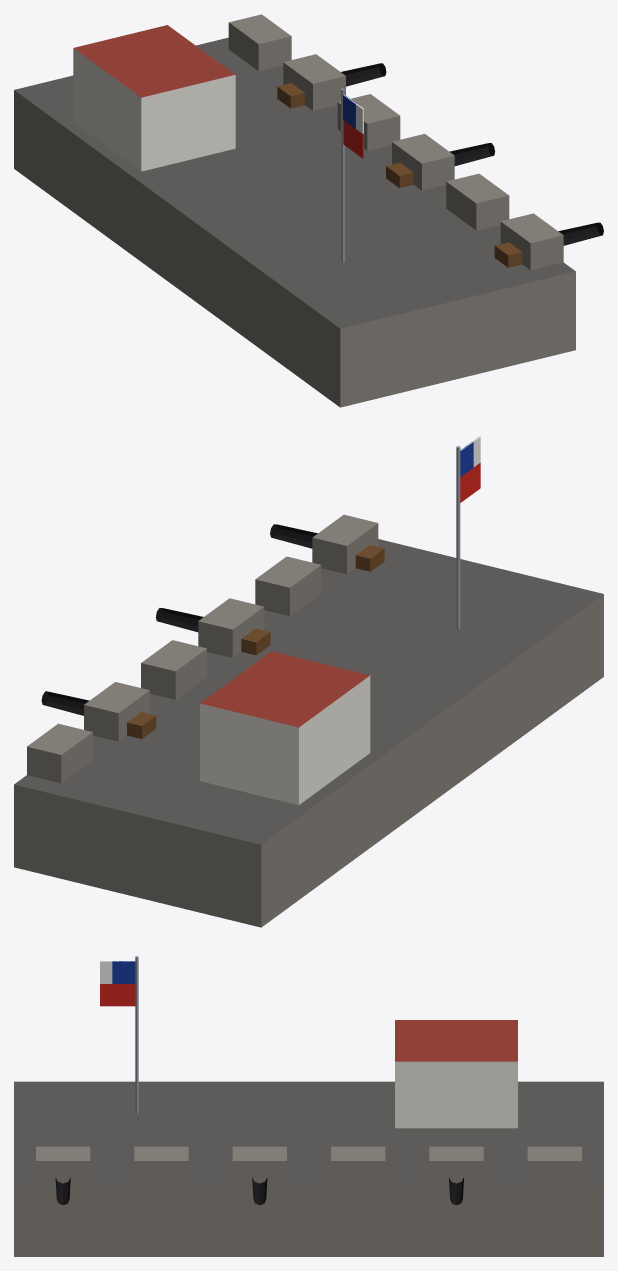
File: fuerte_colonial.obj
The picture shows the model from 3 angles, top to bottom: view 1: azimuth 30°, elevation 25°; view 2: azimuth 150°, elevation 25°; view 3: azimuth 270°, elevation 25°; orthographic projection. The views are drawn at different scales.
Parts seen in each view (by area): view 1: fuerte_colonial; view 2: fuerte_colonial; view 3: fuerte_colonial.
Part boxes in pixels (x1,y1,x2,y2): fuerte_colonial: [14, 14, 603, 407]; fuerte_colonial: [14, 436, 603, 927]; fuerte_colonial: [14, 956, 603, 1256].
Size of the model in its own units: 12.2 by 10.2 by 24.
